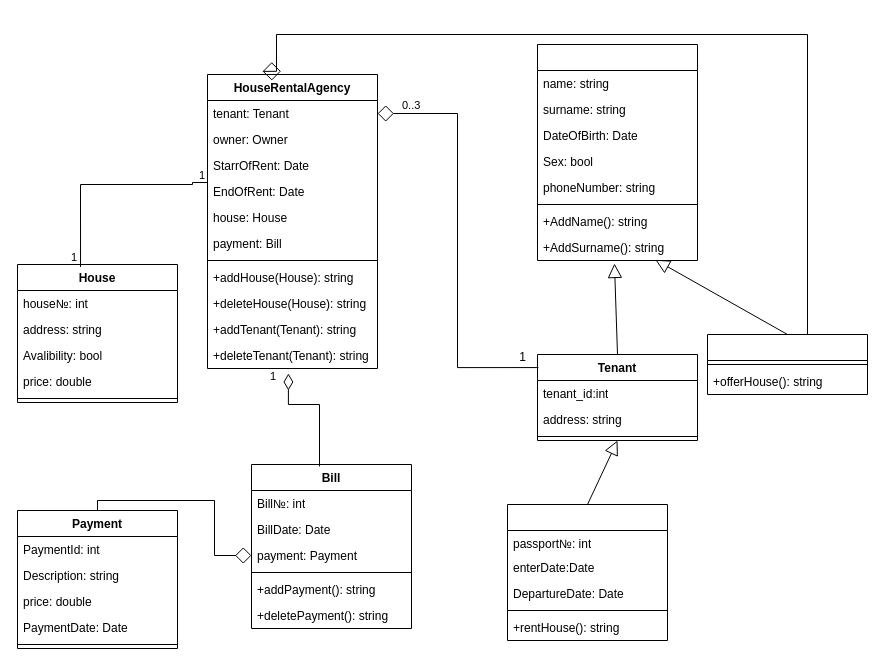
The diagram is 885 pixels wide and 666 high, and some of its shapes have lost their labels. The box of each missing label's shape, as (x1, y1, x2, y2) in pixels:
Human: (536, 44, 698, 260)
Owner: (706, 334, 868, 394)
Renter: (506, 504, 668, 640)
